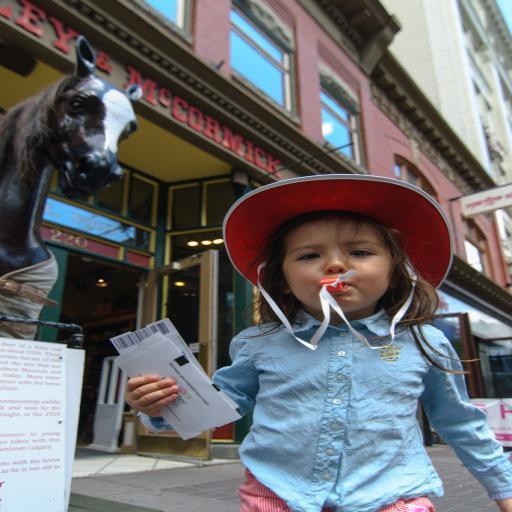horse: (0, 35, 142, 342)
